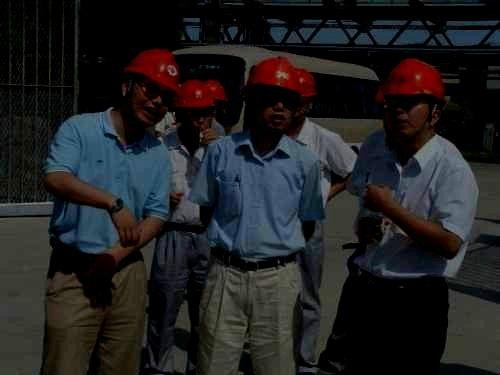helmet: (121, 47, 184, 126), (383, 59, 446, 137), (246, 56, 304, 132), (175, 80, 216, 135), (291, 68, 317, 126), (203, 79, 225, 118)
